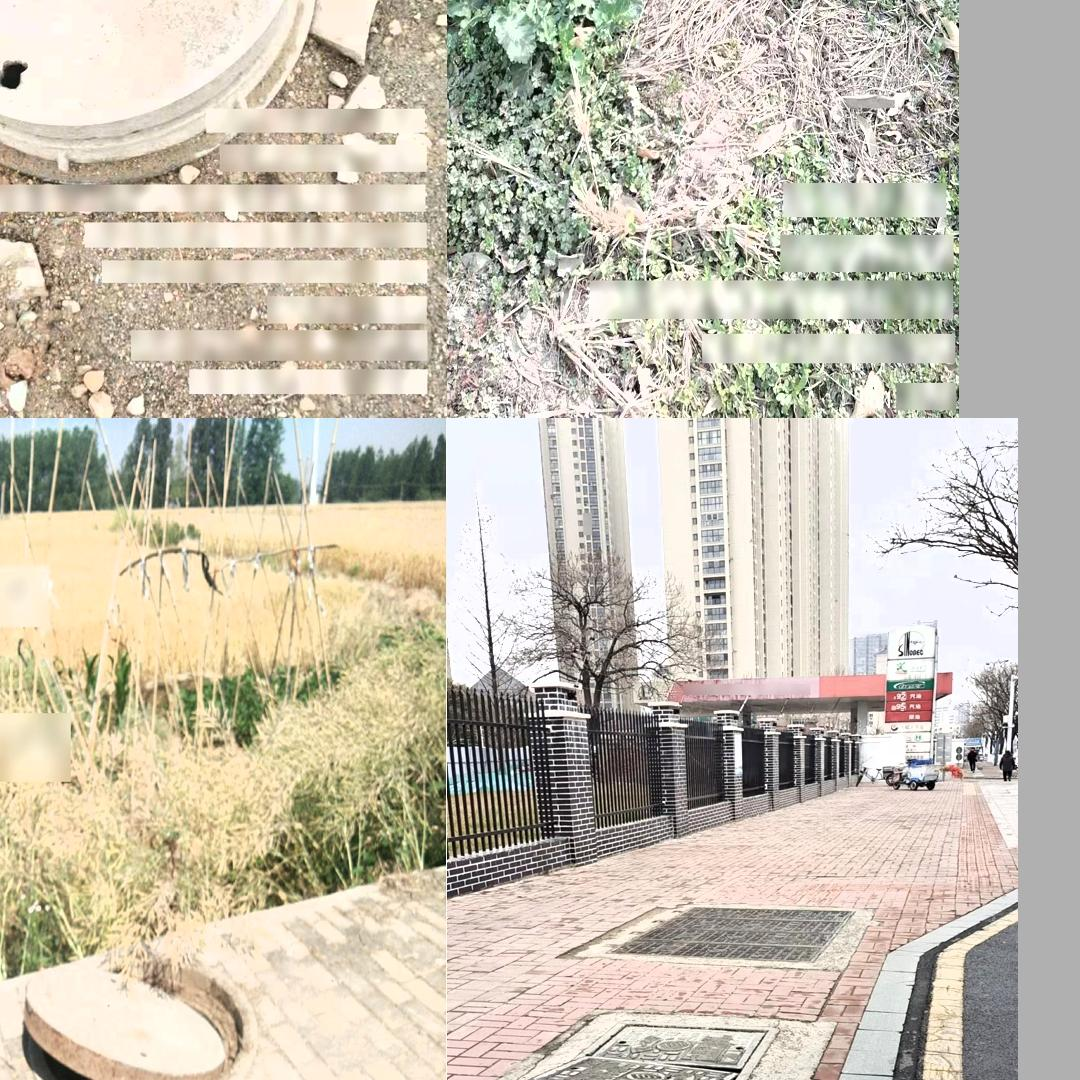good: (609, 904, 859, 971)
uncovered: (0, 0, 315, 182), (22, 952, 256, 1080), (512, 1022, 775, 1080)
